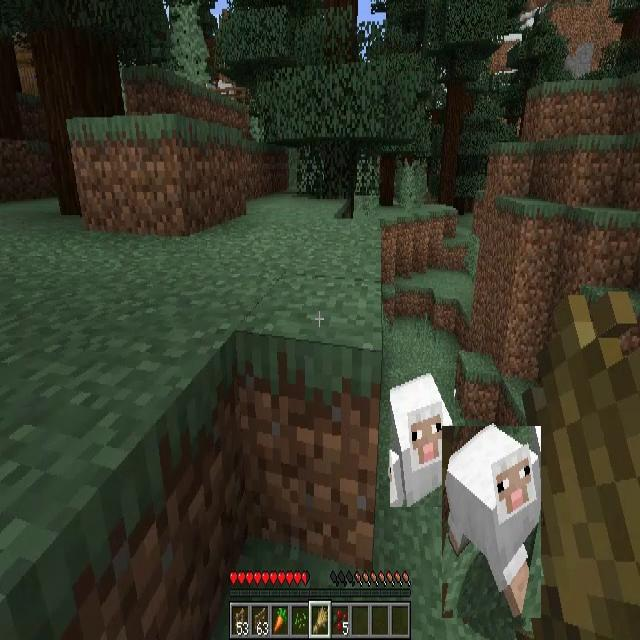sheep: (442, 426, 541, 618), (390, 368, 454, 507)
